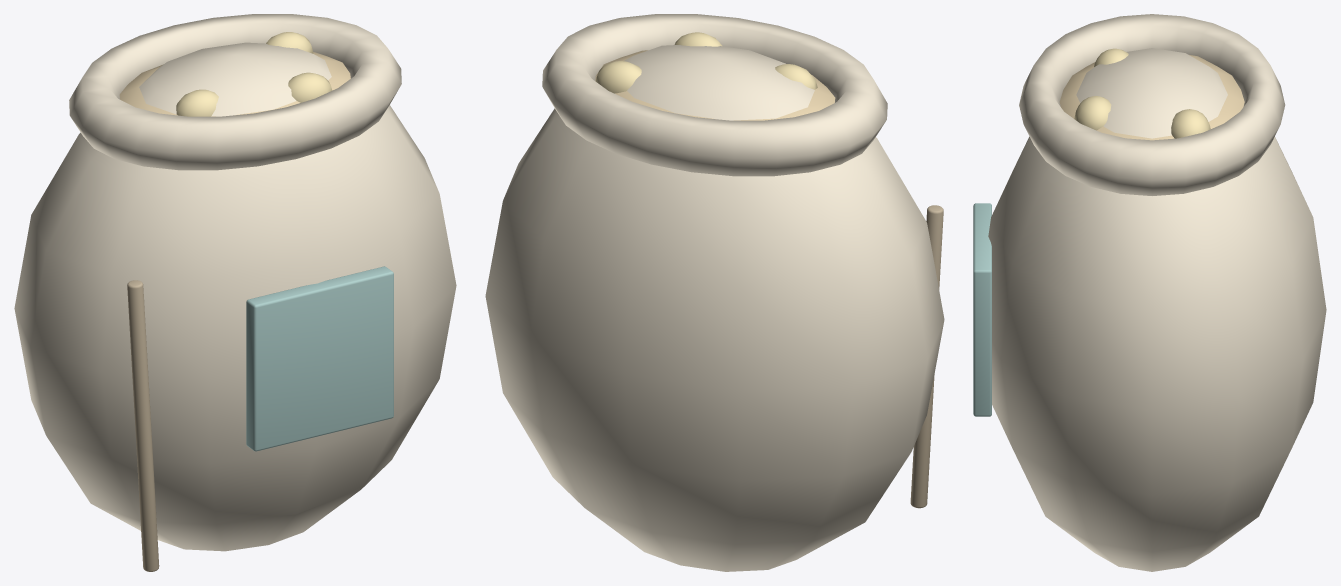
File: ration-full.glb
3 views of the same model, side by side, from view 1: azimuth 30°, elevation 25°; view 2: azimuth 150°, elevation 25°; view 3: azimuth 270°, elevation 25° (orthographic). The views are drawn at different scales.
Visible parts, largest first — view 1: Padded ration sack, Rolled fabric mouth, Diet label, Stitched sack seam, Ration surface, Grain kernel, Grain kernel.001, Grain kernel.003; view 2: Padded ration sack, Rolled fabric mouth, Stitched sack seam, Ration surface, Grain kernel.003, Grain kernel; view 3: Padded ration sack, Rolled fabric mouth, Diet label, Ration surface, Grain kernel.001, Grain kernel.003.
Boxes of the visible parts, x1,y1,x2,y2 form: Padded ration sack: [14, 42, 456, 551]; Rolled fabric mouth: [69, 14, 401, 170]; Diet label: [246, 266, 393, 451]; Stitched sack seam: [127, 280, 159, 571]; Ration surface: [119, 52, 350, 116]; Grain kernel: [176, 89, 218, 116]; Grain kernel.001: [288, 72, 332, 102]; Grain kernel.003: [266, 32, 313, 53]; Padded ration sack: [485, 45, 944, 571]; Rolled fabric mouth: [542, 14, 887, 176]; Stitched sack seam: [910, 205, 943, 508]; Ration surface: [595, 50, 835, 120]; Grain kernel.003: [595, 61, 641, 93]; Grain kernel: [775, 64, 817, 89]; Padded ration sack: [988, 48, 1326, 571]; Rolled fabric mouth: [1019, 14, 1285, 195]; Diet label: [973, 203, 991, 416]; Ration surface: [1059, 55, 1244, 140]; Grain kernel.001: [1074, 96, 1111, 130]; Grain kernel.003: [1171, 109, 1210, 138].
Bounding box in the file's own units: 0.76 × 0.858 × 0.567.
